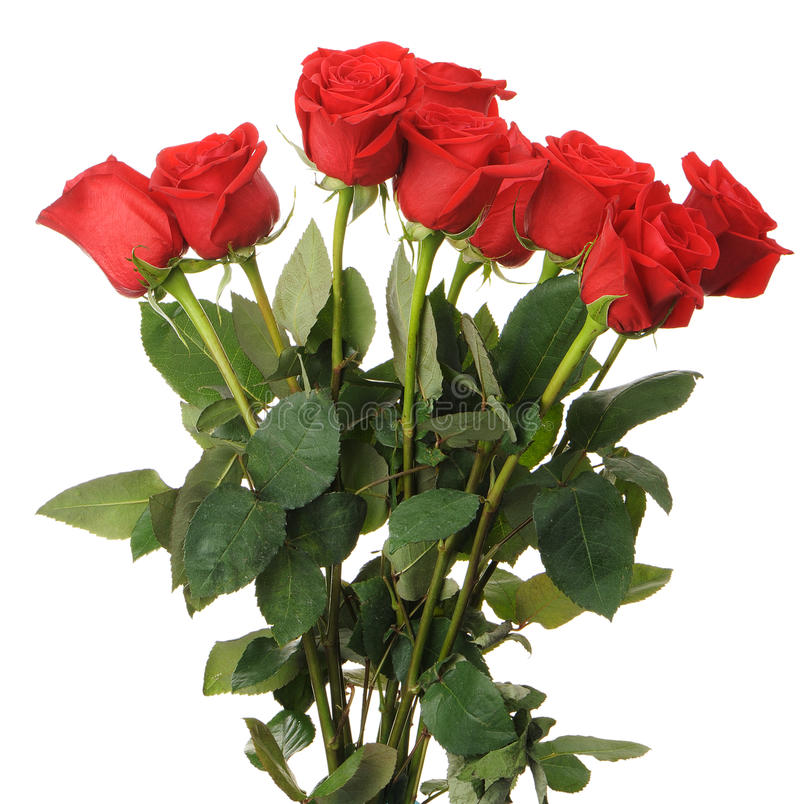RedRose: (279, 34, 423, 218), (24, 149, 182, 293), (524, 114, 658, 281), (569, 196, 707, 348), (674, 137, 793, 313), (150, 128, 298, 268), (396, 110, 533, 254), (399, 35, 512, 175)
